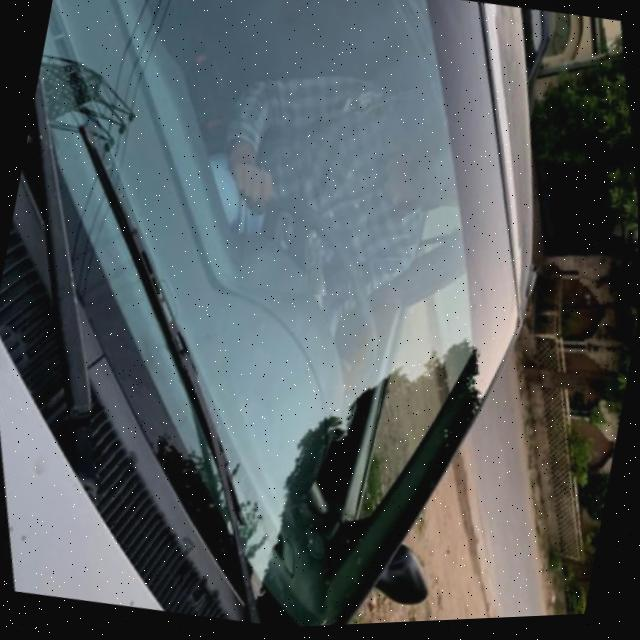no-seatbelt: (237, 99, 385, 307)
